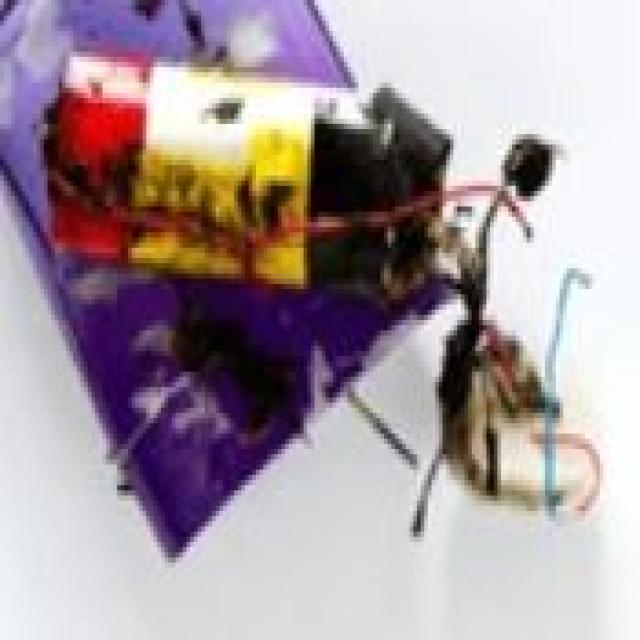electronic: (34, 42, 472, 338)
